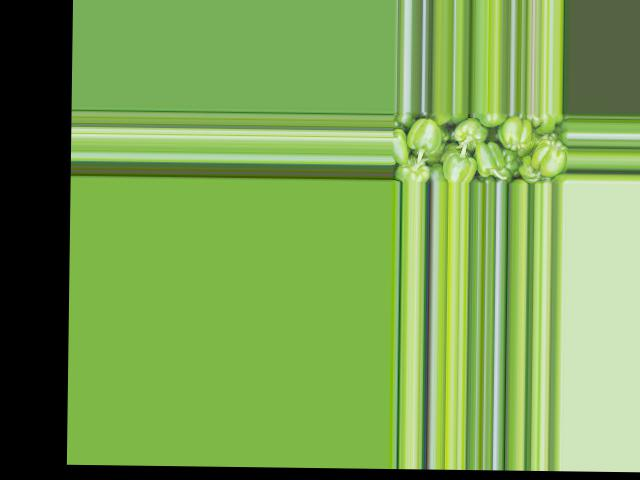bell_pepper: (394, 111, 568, 182)
